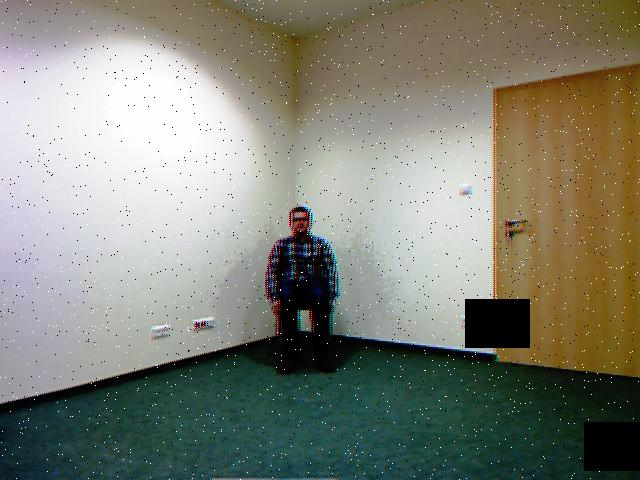sitting: (257, 199, 356, 386)
